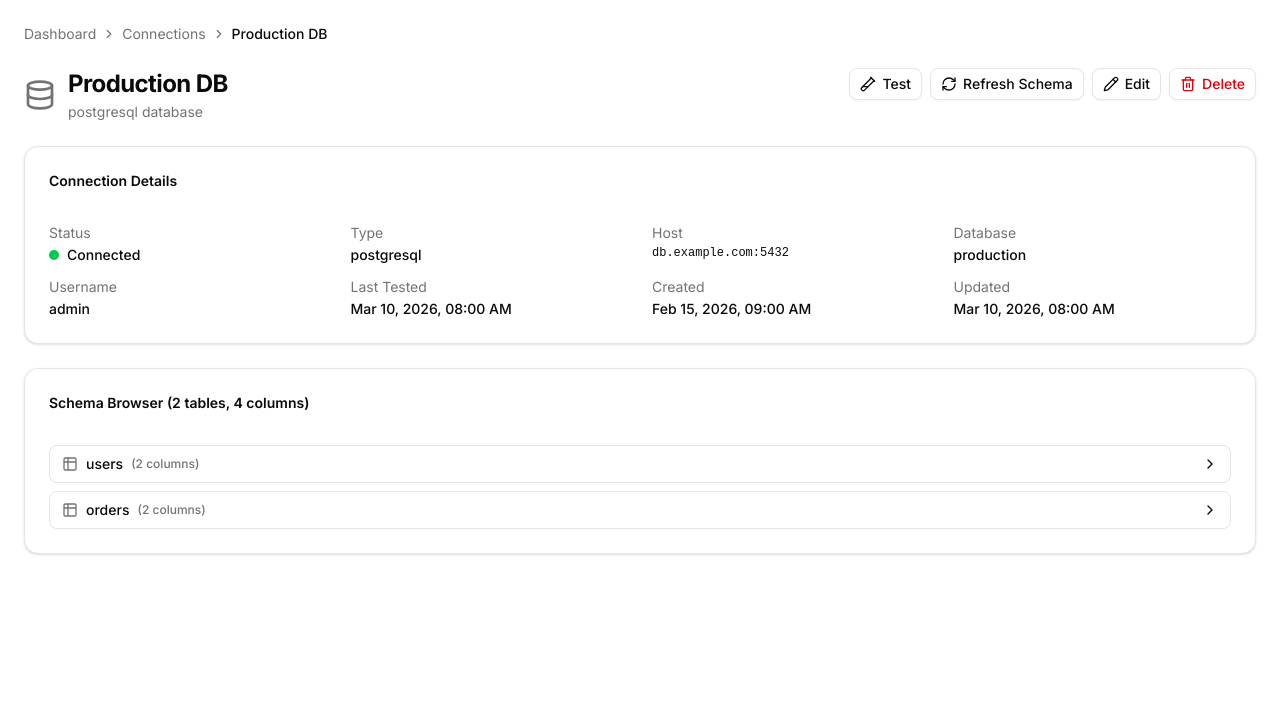
Test case: ConnectionDetailPage › schema browser › expands table to show columns
The width and height of the screenshot is (1280, 720).
Click the button with test id "table-toggle-users" at (105, 464), box [50, 446, 1230, 482]
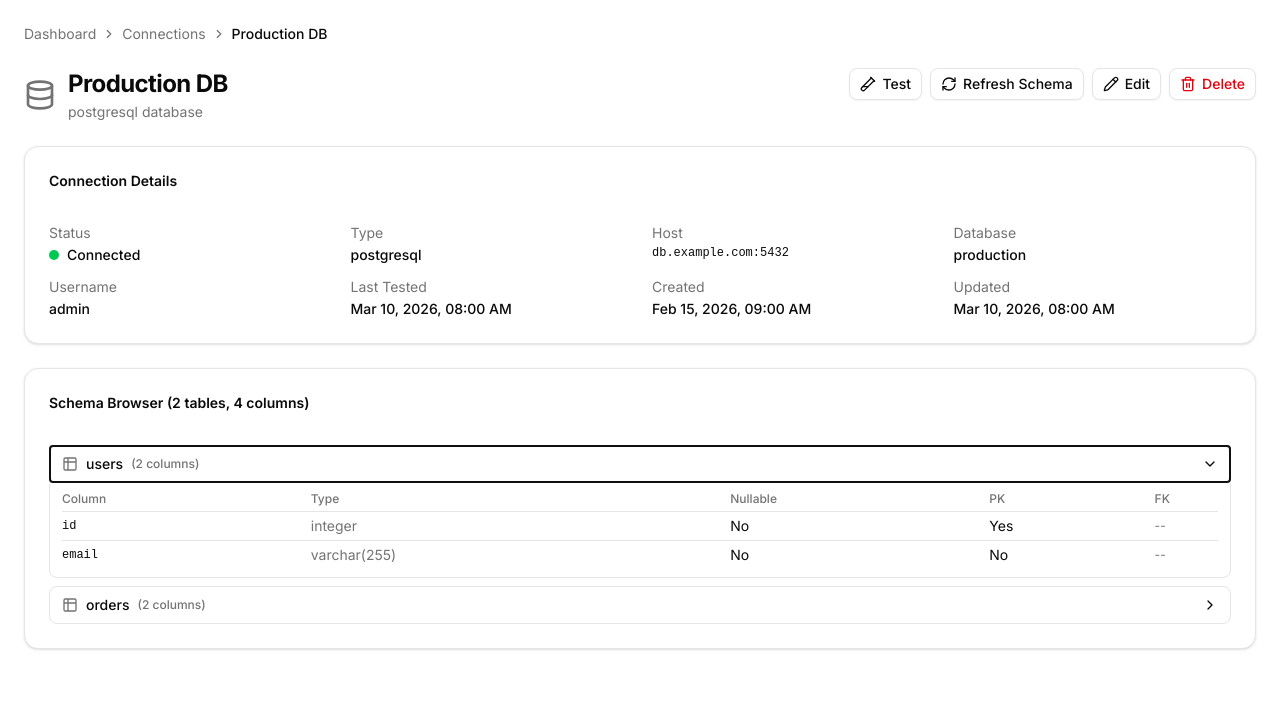
Result: the text "email" is shown at [62, 540, 311, 569]
Result: the text "varchar(255)" is shown at [311, 540, 730, 569]
